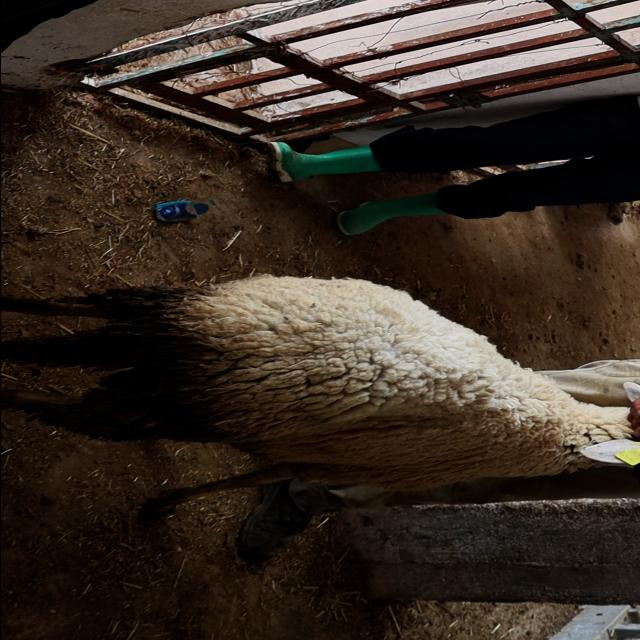Score_3: (1, 274, 640, 517)
